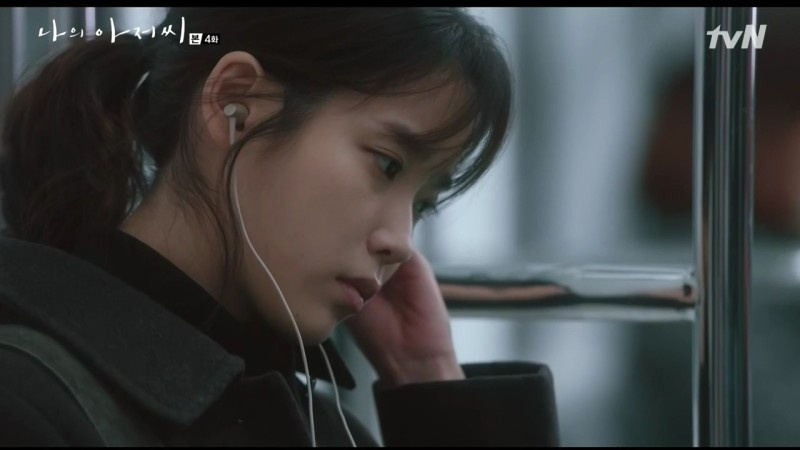earphone: (202, 51, 268, 154)
